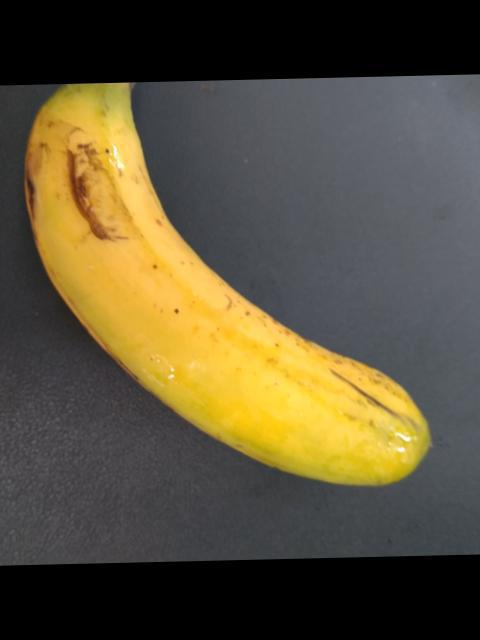ripe: (36, 94, 462, 541)
